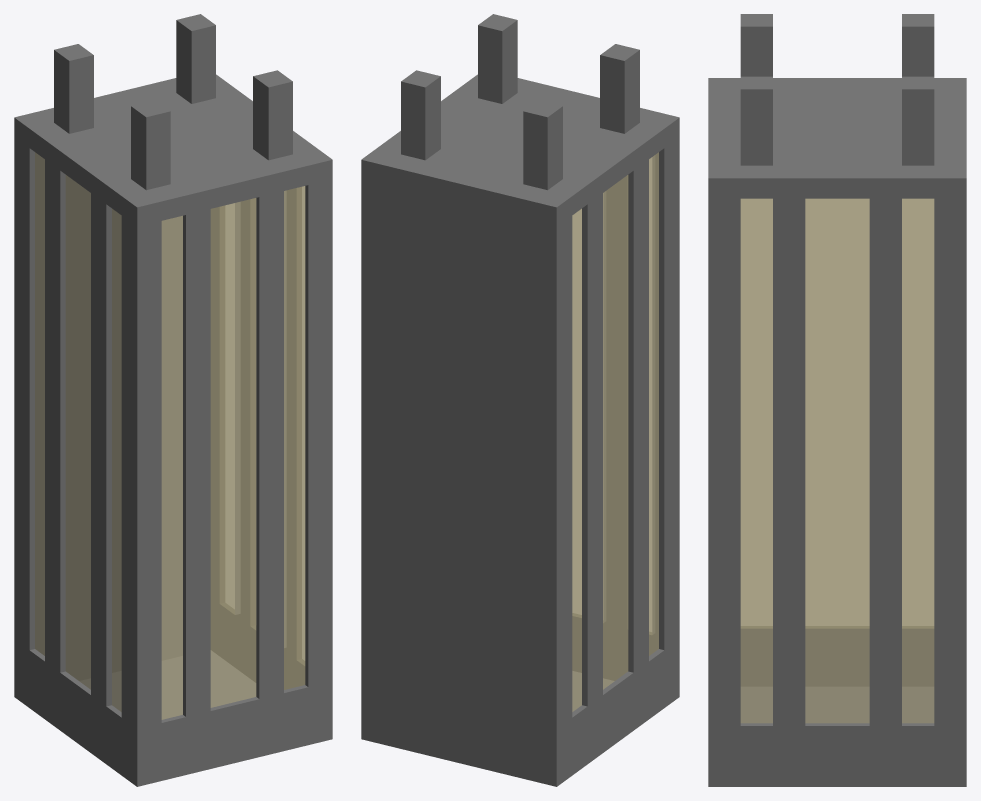
File: Four Pillar Building.fbx
3 views of the same model, side by side, from view 1: azimuth 30°, elevation 25°; view 2: azimuth 150°, elevation 25°; view 3: azimuth 270°, elevation 25° (orthographic). The views are drawn at different scales.
Parts seen in each view (by area): view 1: Four_Pillar_Building; view 2: Four_Pillar_Building; view 3: Four_Pillar_Building.
Boxes of the visible parts, left/top/right/bottom form: Four_Pillar_Building: left=14, top=14, right=332, bottom=786; Four_Pillar_Building: left=361, top=14, right=679, bottom=786; Four_Pillar_Building: left=708, top=14, right=966, bottom=786.
Size of the model in its own units: 36.8 by 117 by 40.07.
